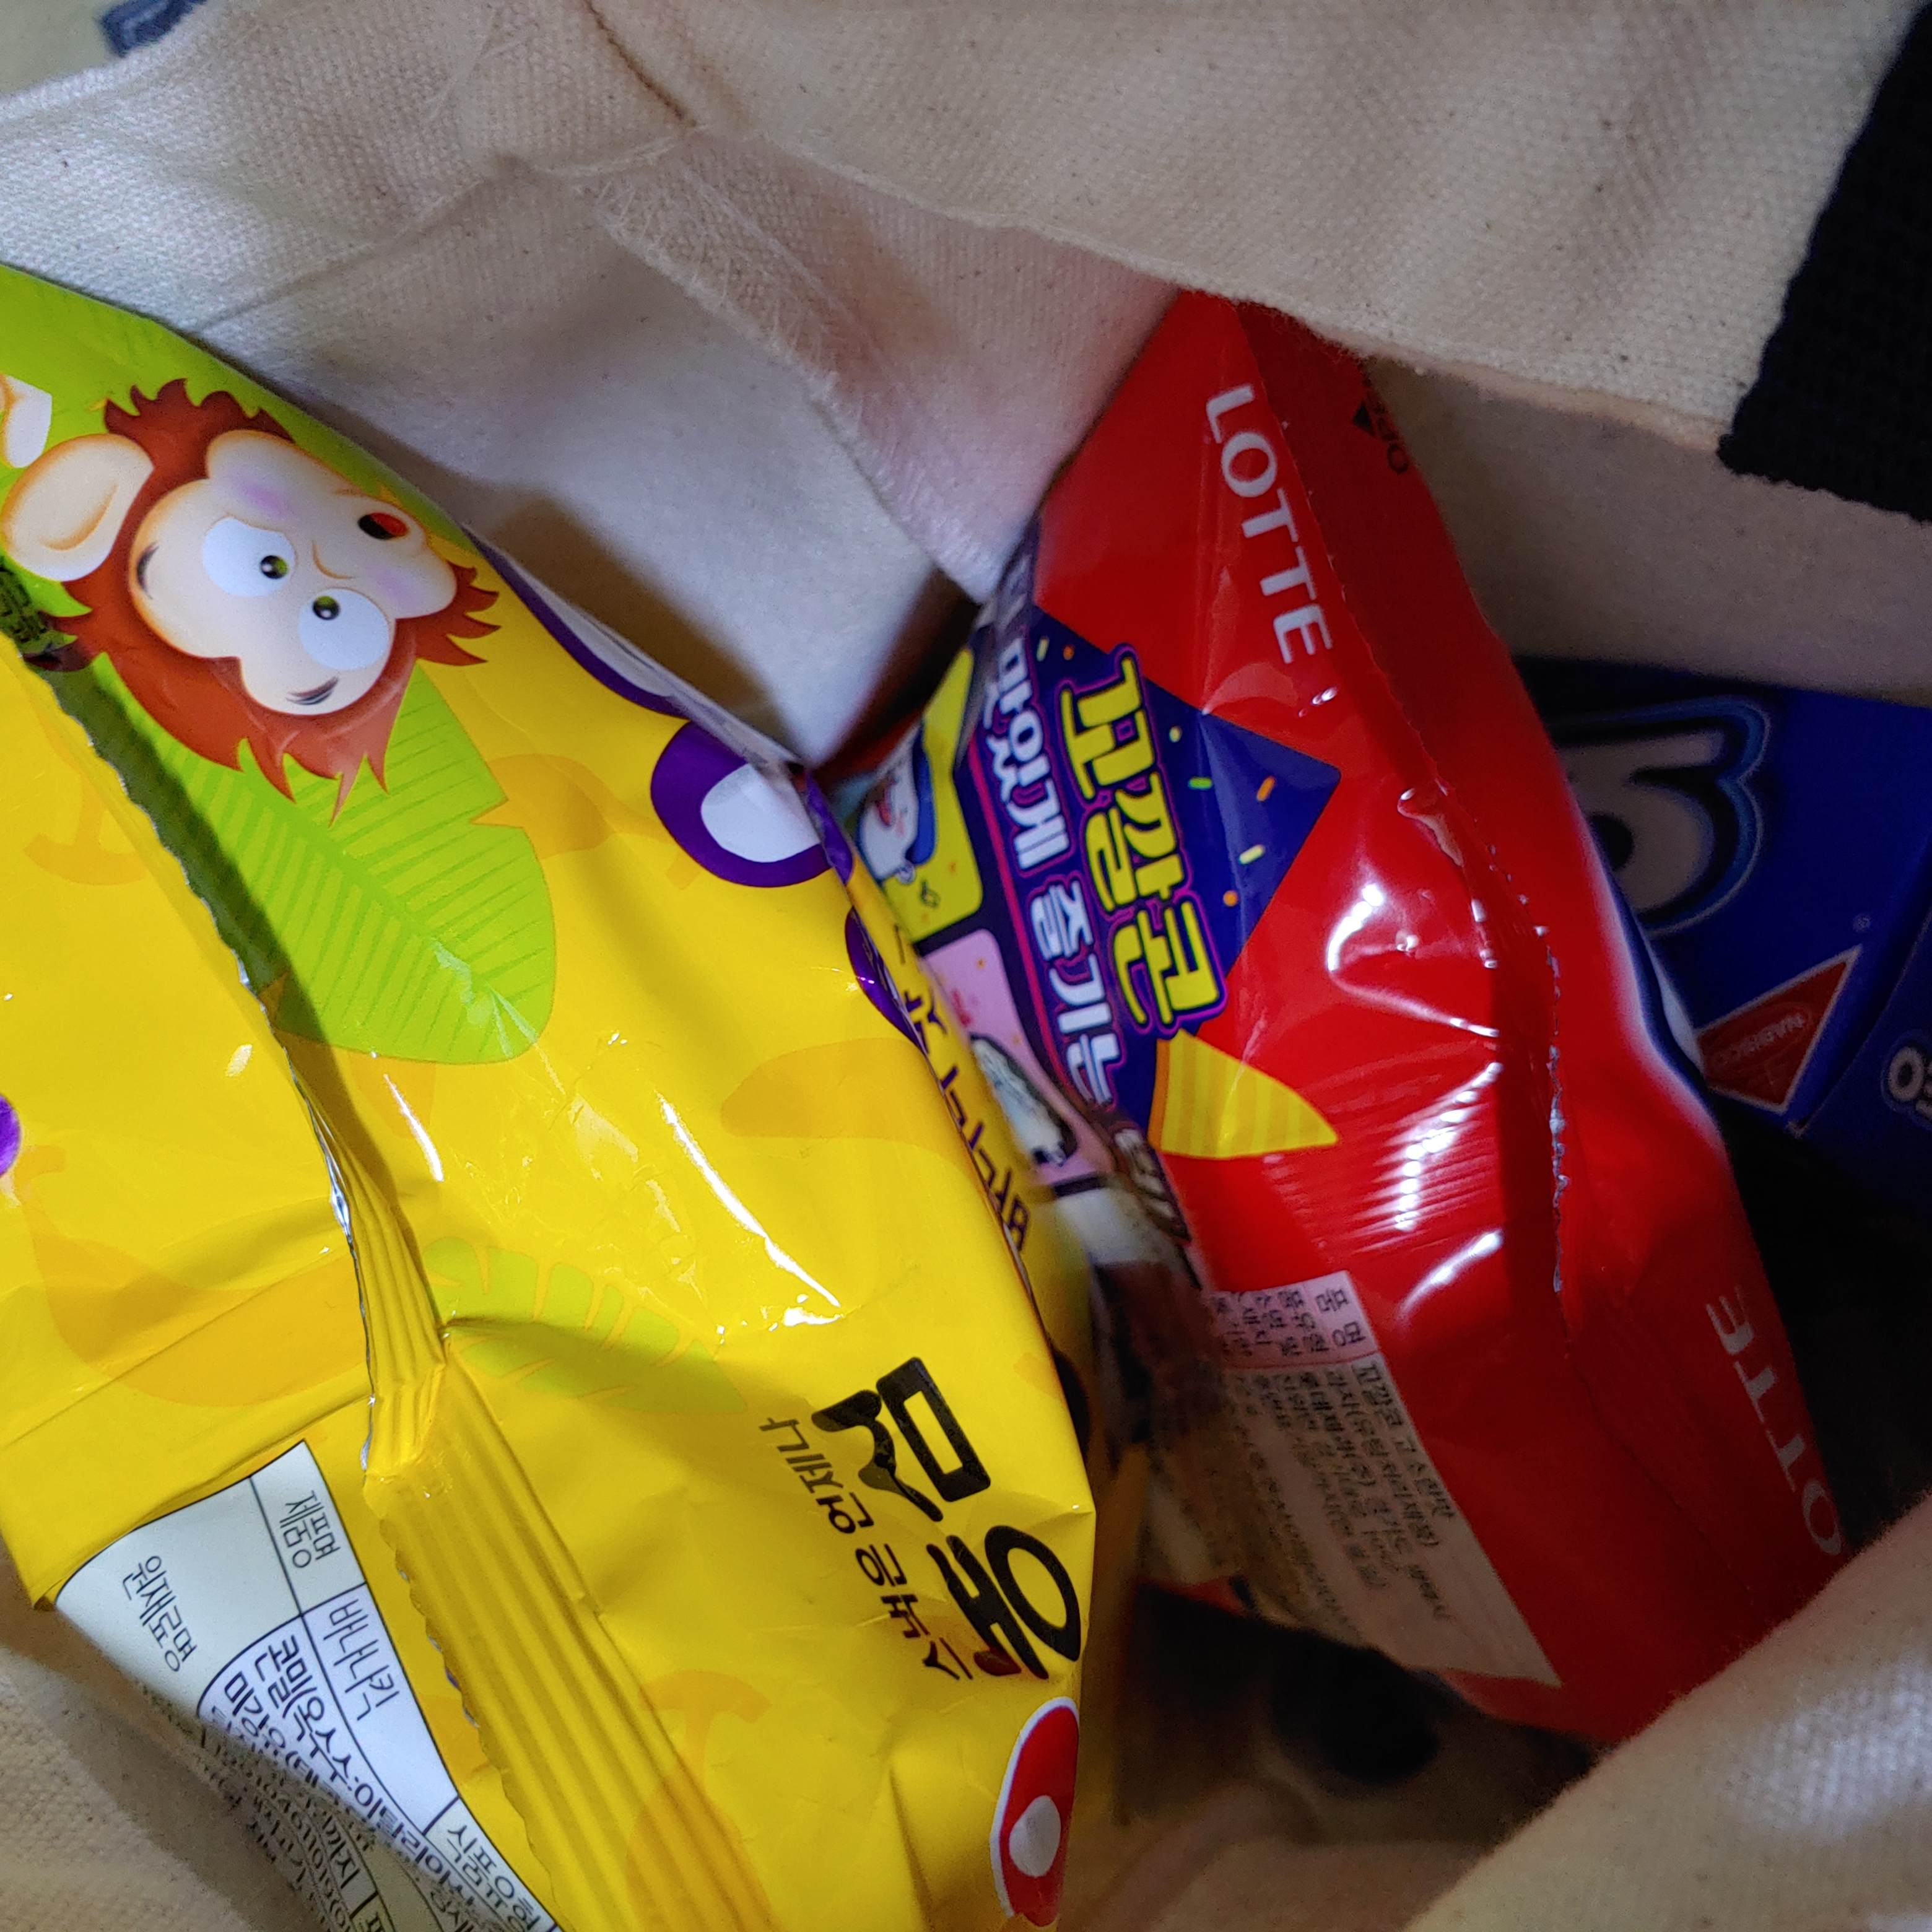banana: (7, 211, 1131, 1932)
ggoggalcon: (695, 157, 1836, 1760)
oreo: (1424, 511, 1932, 1212)
